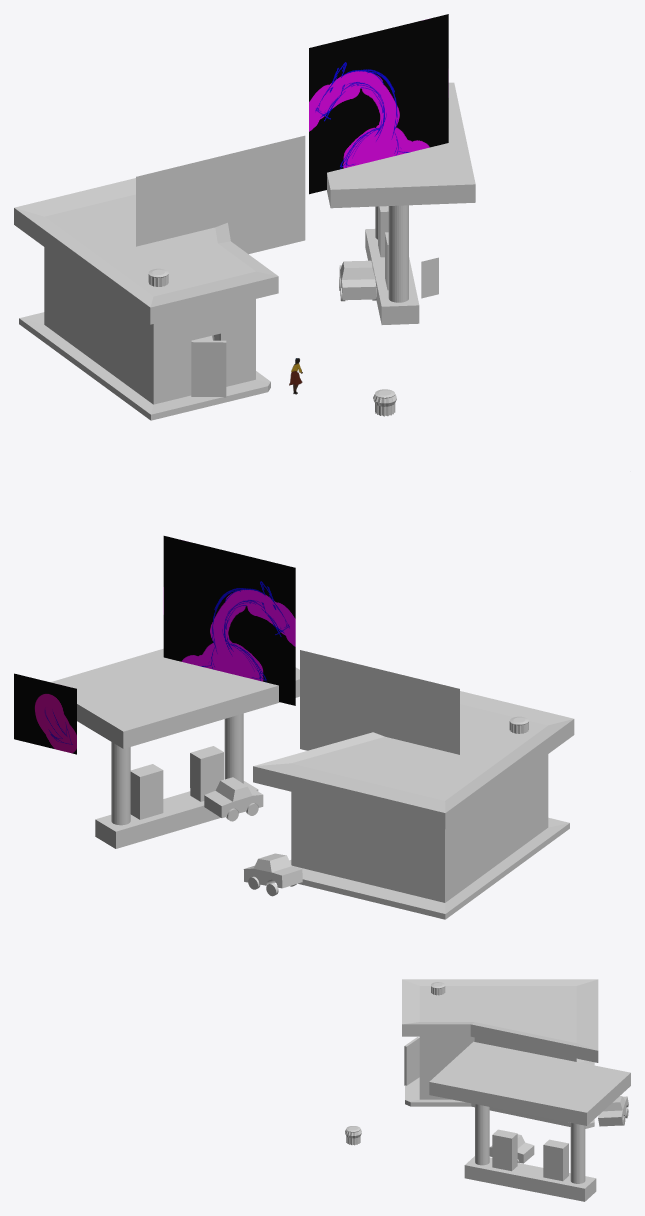
The picture shows the model from 3 angles, top to bottom: view 1: azimuth 30°, elevation 25°; view 2: azimuth 150°, elevation 25°; view 3: azimuth 270°, elevation 25°; orthographic projection. The views are drawn at different scales.
Visible parts, largest first — view 1: building.001, right_dragon_front.001, dragon_left, carport_roof.001, carport_base.001, door.001, carport_pillar_near.001, car_body.001, chester.001; view 2: building.001, right_dragon_front.001, carport_roof.001, dragon_left, carport_base.001, right_dragon_tail.001, carport_pillar_far.001, car_body.001, wrecked_car_body.001, carport_pillar_near.001; view 3: building.001, carport_roof.001, carport_base.001, carport_pillar_far.001, carport_pillar_near.001, door.001, wrecked_car_body.001, car_body.001.
Boxes of the visible parts, box(x1,y1,x2,y2) form: building.001: box(14, 178, 278, 420); right_dragon_front.001: box(309, 14, 448, 194); dragon_left: box(136, 135, 305, 254); carport_roof.001: box(326, 82, 475, 208); carport_base.001: box(365, 206, 419, 324); door.001: box(191, 340, 226, 397); carport_pillar_near.001: box(388, 205, 408, 302); car_body.001: box(339, 260, 376, 300); chester.001: box(421, 257, 438, 298); building.001: box(253, 691, 574, 919); right_dragon_front.001: box(163, 536, 295, 705); carport_roof.001: box(51, 648, 299, 748); dragon_left: box(300, 650, 459, 754); carport_base.001: box(95, 746, 258, 848); right_dragon_tail.001: box(14, 673, 76, 754); carport_pillar_far.001: box(111, 742, 130, 825); car_body.001: box(204, 777, 263, 817); wrecked_car_body.001: box(243, 853, 302, 888); carport_pillar_near.001: box(224, 713, 243, 783); building.001: box(402, 979, 598, 1128); carport_roof.001: box(429, 1041, 630, 1125); carport_base.001: box(464, 1129, 596, 1201); carport_pillar_far.001: box(570, 1123, 585, 1183); carport_pillar_near.001: box(475, 1104, 489, 1165); door.001: box(404, 1037, 419, 1085); wrecked_car_body.001: box(598, 1096, 628, 1126); car_body.001: box(489, 1134, 534, 1163).
Size of what is drawn, in the model's own units: 5042 by 3080 by 8463.
